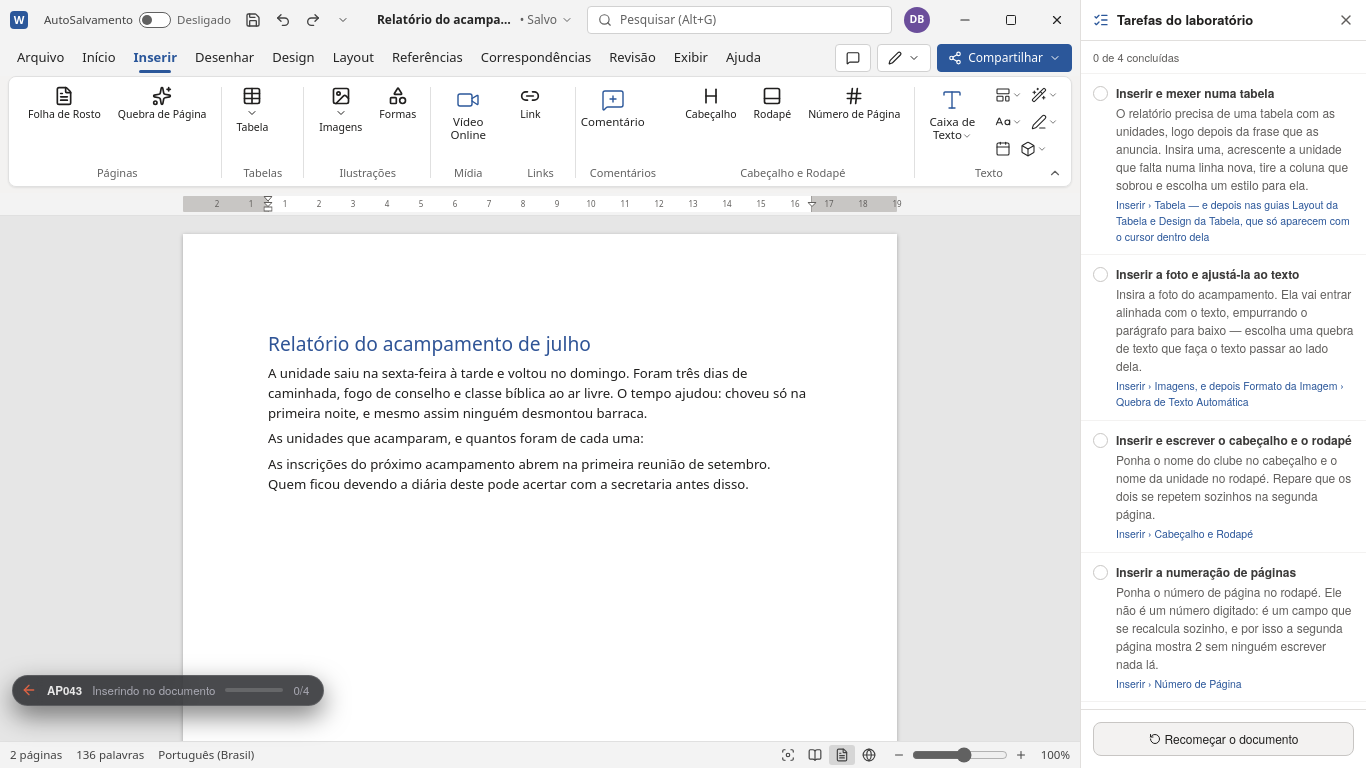
it: o cabeçalho tem modo próprio › fechado é de leitura e apagado; aberto se escreve e apaga o texto
Step 1. Click the button "Cabeçalho" → (711, 104), box [678,83,744,126]
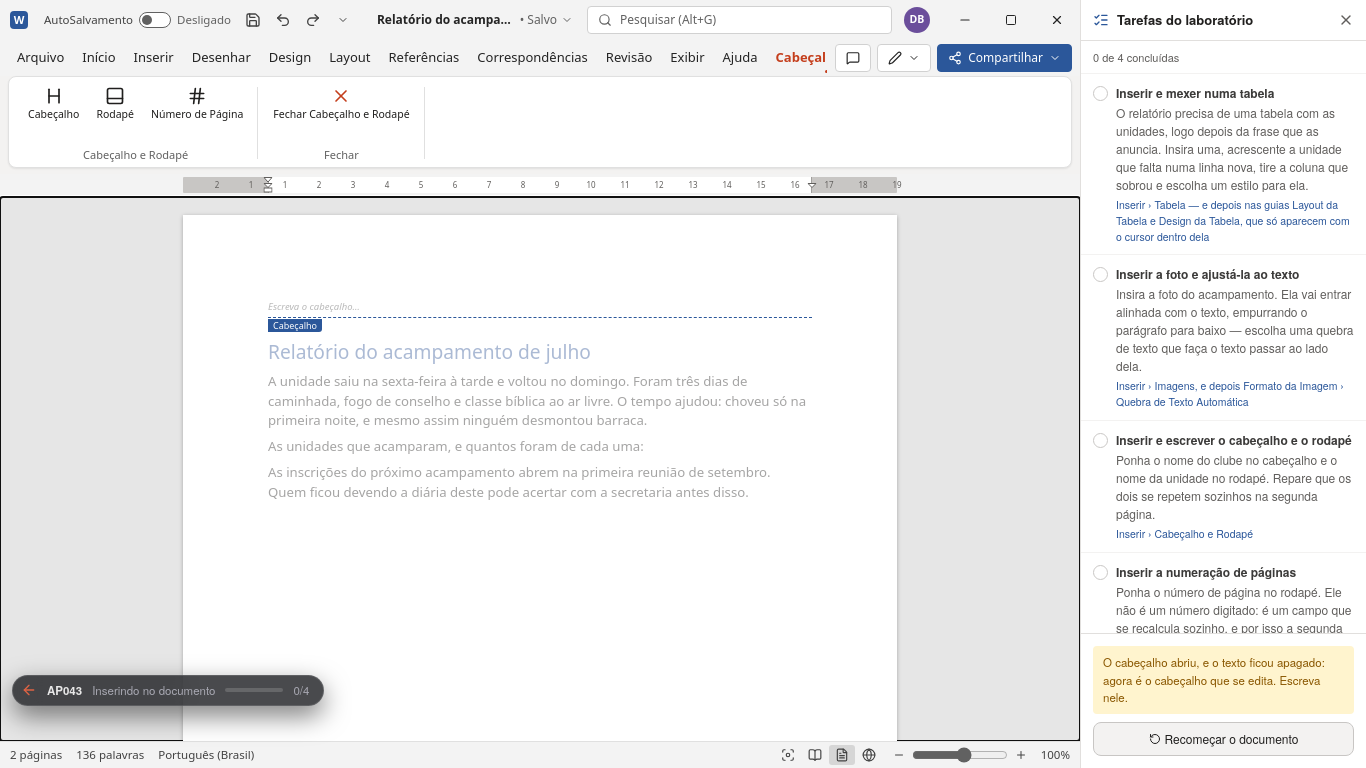
Now the element with class "wd-faixas-abertas" is shown, box [0,197,1080,741]
Now the field named "Cabeçalho" is shown, box [268,300,812,314]
Step 2. Click the button "Fechar Cabeçalho e Rodapé" → (341, 104), box [266,83,417,126]
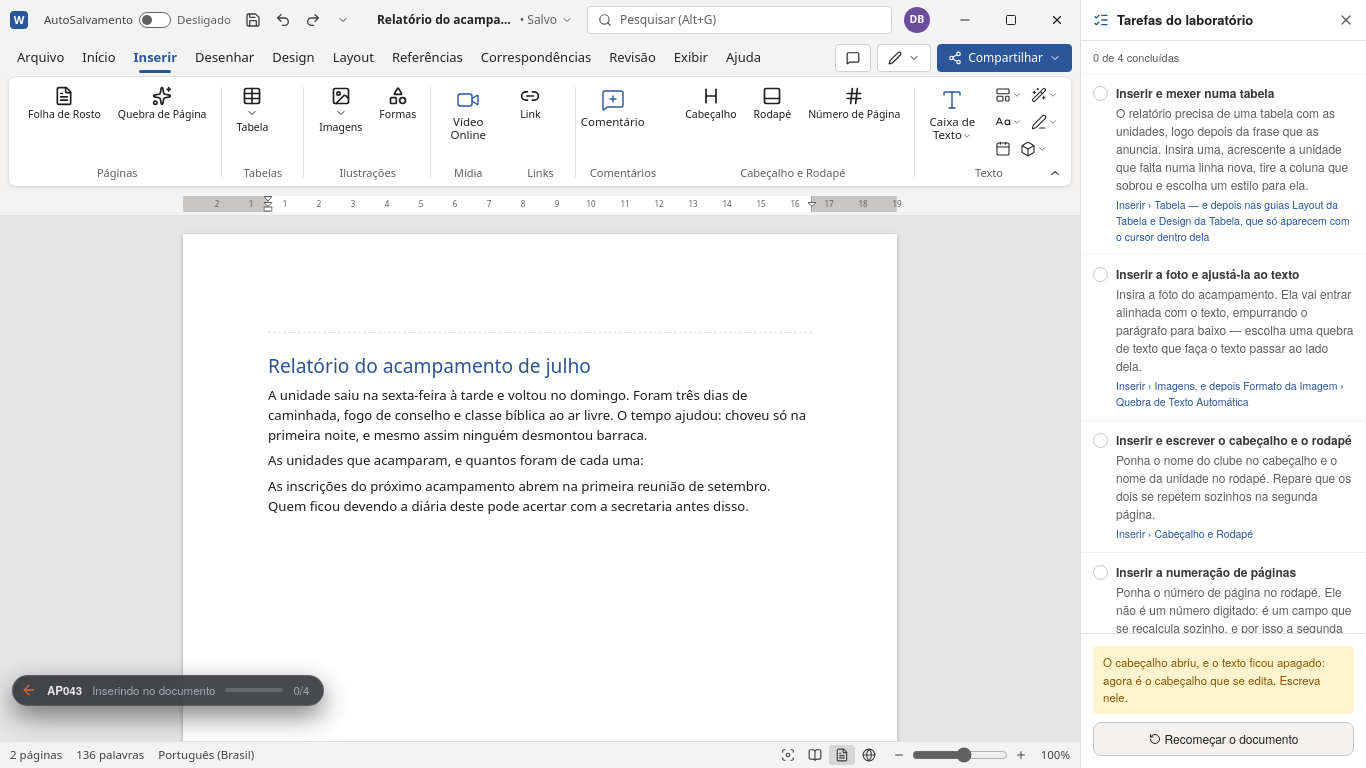
Now the element with class "wd-faixa-fechada" is shown, box [268,318,812,332]
